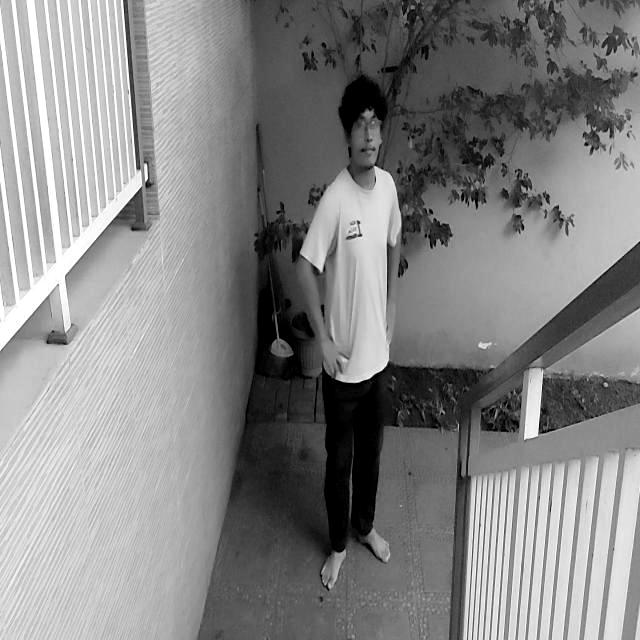No-Boots: (353, 524, 395, 566), (320, 546, 349, 594)
No-Vest: (314, 167, 398, 381)
